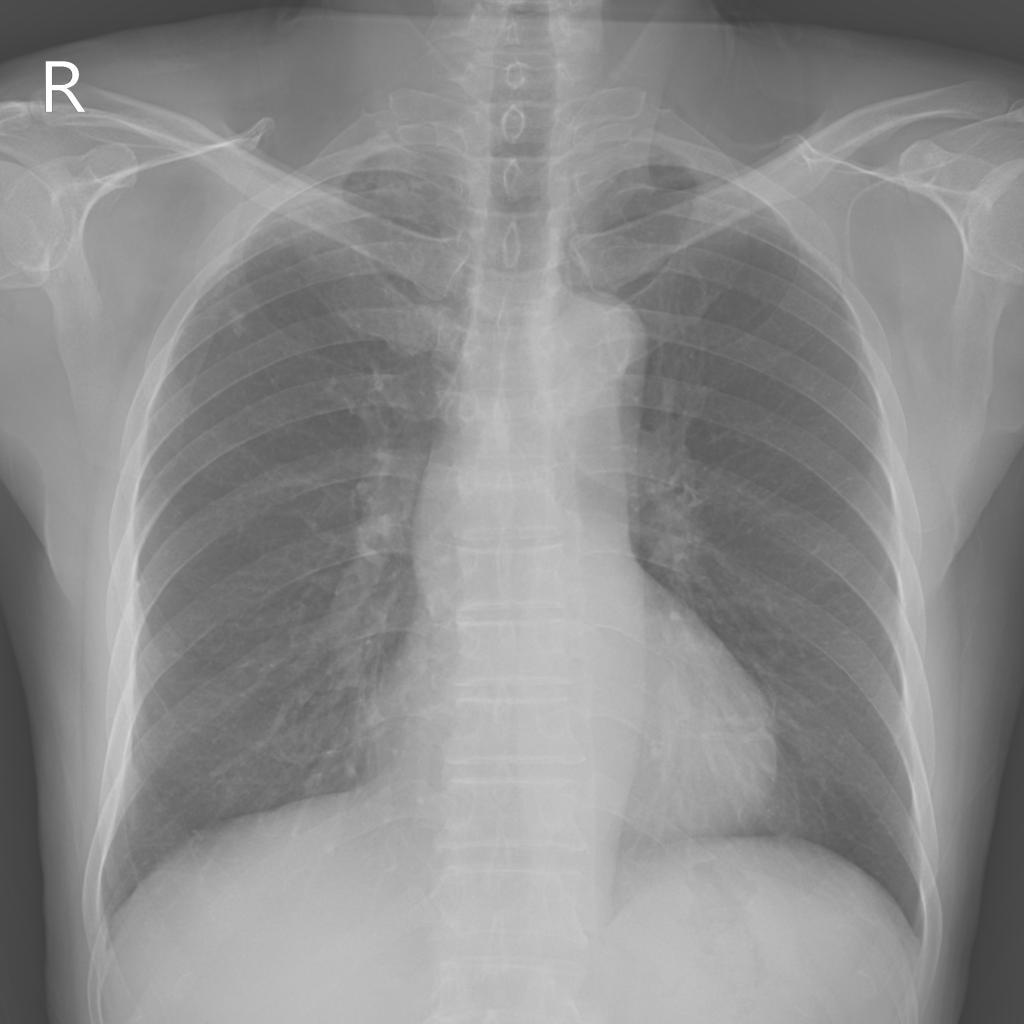Nodule: (228, 306, 249, 340)
